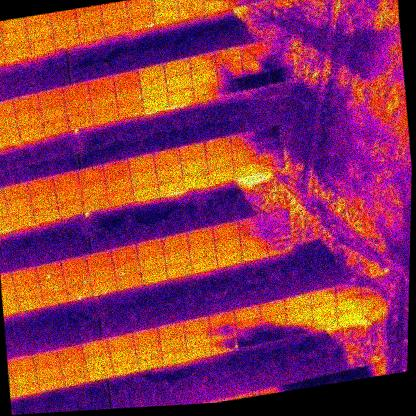Hotspot: (17, 121, 46, 141), (128, 10, 156, 30), (36, 261, 63, 281), (118, 98, 144, 118), (116, 85, 143, 104), (67, 110, 94, 129), (33, 205, 60, 224), (239, 228, 266, 247), (66, 282, 93, 301), (113, 258, 141, 276), (90, 277, 118, 295), (266, 238, 292, 257), (39, 275, 66, 293), (264, 225, 291, 242), (63, 270, 90, 287), (0, 45, 8, 67)
Normal: (25, 16, 53, 40), (52, 27, 81, 50), (152, 3, 180, 26), (59, 255, 89, 276), (76, 5, 103, 28), (128, 152, 156, 174), (91, 102, 120, 123), (204, 135, 233, 156), (76, 22, 105, 43), (10, 267, 40, 287), (100, 0, 128, 21), (37, 87, 65, 108), (50, 12, 78, 33), (0, 24, 28, 45), (153, 146, 181, 167), (102, 16, 130, 37), (156, 175, 185, 195), (27, 35, 56, 55), (2, 181, 29, 202), (107, 187, 134, 208), (62, 81, 90, 101), (165, 72, 193, 92), (57, 343, 85, 363), (163, 58, 191, 78), (137, 63, 165, 83), (112, 69, 140, 89), (85, 250, 114, 269), (7, 353, 36, 372), (166, 86, 193, 106), (179, 141, 206, 161), (103, 158, 130, 178), (206, 150, 233, 170), (130, 167, 157, 187), (104, 173, 131, 193), (9, 209, 36, 229), (107, 332, 134, 352), (87, 75, 114, 95), (12, 93, 40, 112), (89, 89, 117, 108), (39, 102, 67, 121), (27, 176, 55, 195), (207, 165, 235, 184), (212, 221, 240, 240), (186, 227, 214, 246), (136, 239, 164, 258), (111, 245, 139, 264), (88, 263, 116, 282), (14, 280, 42, 299), (215, 249, 243, 268), (139, 265, 167, 284), (114, 272, 142, 291), (4, 41, 32, 60), (10, 367, 38, 386), (137, 252, 166, 270), (65, 96, 91, 116), (192, 81, 218, 101), (312, 313, 338, 333), (190, 67, 217, 86), (142, 92, 169, 111), (78, 165, 105, 184), (53, 171, 80, 190), (80, 179, 107, 198), (54, 184, 81, 203), (233, 160, 260, 179), (132, 181, 159, 200), (162, 233, 189, 252), (188, 241, 215, 260), (17, 294, 44, 313), (234, 304, 261, 323), (208, 309, 235, 328), (335, 294, 362, 313), (161, 347, 188, 366), (15, 108, 43, 126), (42, 116, 70, 134), (134, 341, 162, 359), (182, 170, 208, 189), (58, 199, 84, 218), (178, 0, 204, 19), (164, 247, 190, 266), (284, 292, 310, 311), (183, 315, 209, 334), (158, 321, 184, 340), (310, 300, 336, 319), (82, 338, 108, 357), (33, 349, 59, 368), (185, 329, 211, 348), (85, 351, 111, 370), (140, 79, 167, 97), (180, 157, 207, 175), (155, 162, 182, 180), (6, 196, 33, 214), (214, 235, 241, 253), (240, 244, 267, 262), (190, 254, 217, 272), (258, 298, 285, 316), (133, 327, 160, 345), (137, 353, 164, 371), (111, 358, 138, 376), (108, 346, 136, 363), (61, 369, 89, 386), (31, 189, 56, 208), (83, 194, 109, 212), (166, 261, 192, 279), (286, 306, 312, 324), (337, 308, 363, 326), (87, 364, 113, 382), (159, 335, 186, 352), (37, 375, 64, 392), (42, 289, 68, 306), (60, 357, 86, 374), (187, 343, 213, 360), (14, 380, 40, 397), (36, 363, 62, 379), (126, 0, 152, 15), (0, 127, 20, 146), (0, 113, 17, 131), (0, 98, 14, 118), (151, 0, 177, 9), (176, 0, 203, 5)
Shadow: (239, 41, 267, 62), (255, 124, 282, 145), (229, 130, 257, 150), (236, 215, 265, 234), (215, 61, 242, 81), (263, 210, 290, 230), (189, 52, 216, 72), (240, 57, 268, 76), (267, 65, 295, 84), (256, 140, 284, 159), (360, 290, 388, 309), (232, 145, 258, 165), (266, 51, 293, 70), (258, 154, 285, 173), (211, 336, 238, 355), (214, 47, 241, 66), (259, 311, 287, 329), (218, 76, 244, 95), (236, 328, 262, 347), (334, 280, 361, 298), (309, 287, 336, 305), (209, 324, 236, 342), (261, 323, 288, 341), (360, 304, 388, 321), (243, 71, 269, 89), (265, 37, 291, 55), (235, 317, 261, 334), (287, 320, 313, 337), (202, 0, 229, 14), (228, 0, 255, 9), (252, 0, 279, 2)
